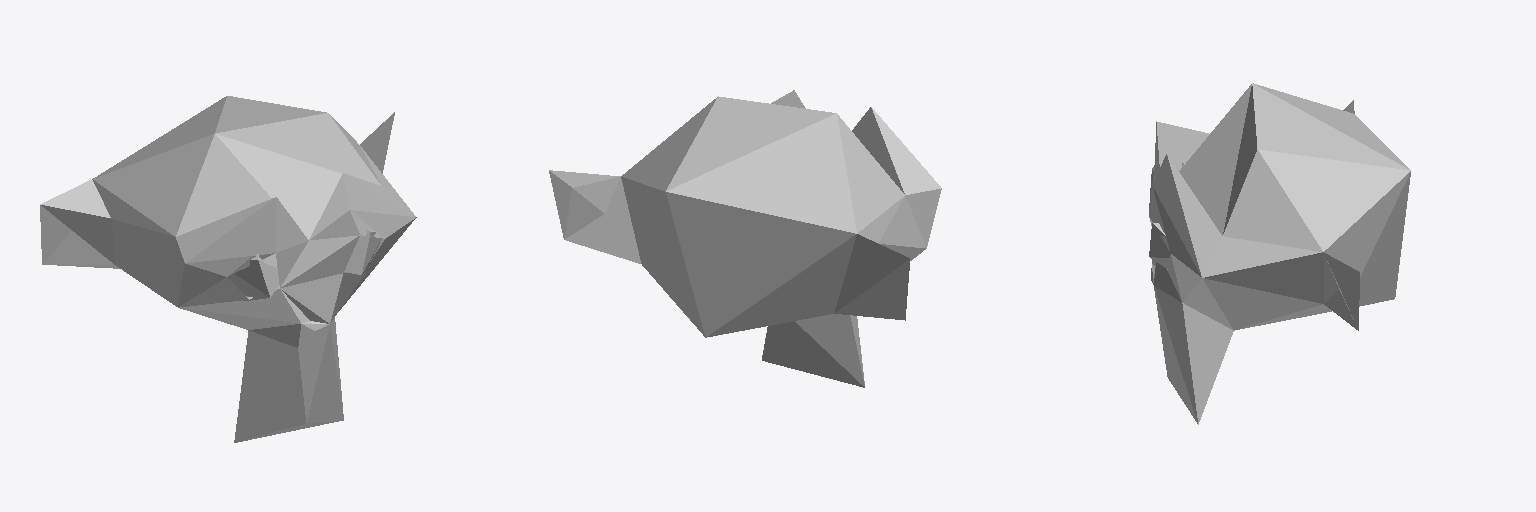
File: monke_lod4.obj
3 views of the same model, side by side, from view 1: azimuth 30°, elevation 25°; view 2: azimuth 150°, elevation 25°; view 3: azimuth 270°, elevation 25° (orthographic).
Visible parts, largest first — view 1: Suzanne; view 2: Suzanne; view 3: Suzanne.
Part boxes in pixels (left/top/right/bottom): Suzanne: left=40, top=96, right=416, bottom=442; Suzanne: left=549, top=90, right=941, bottom=387; Suzanne: left=1149, top=83, right=1410, bottom=424.
Size of the model in its own units: 2.5 by 1.95 by 1.59.